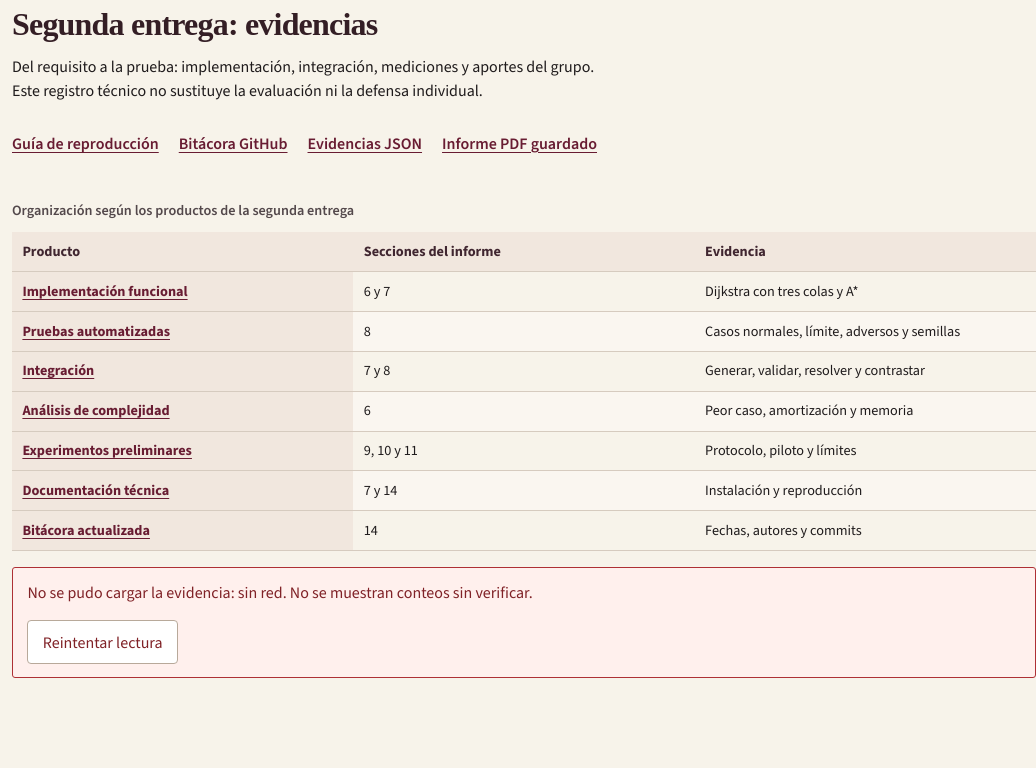
Test: permite reintentar una carga fallida y no anuncia éxito
Expected: the message shows "sin red", left=238, top=582, right=283, bottom=603
Click the button "Reintentar lectura".
click(103, 642)  # box left=27, top=620, right=178, bottom=664
(page scrolled)
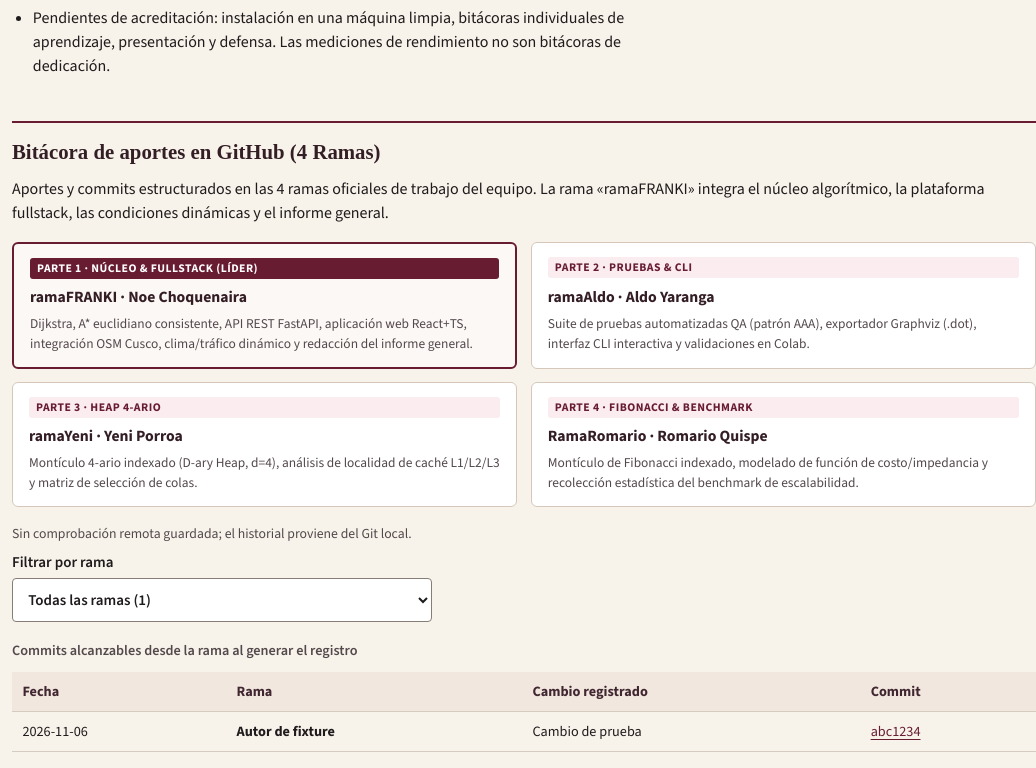
Expected: the text "Cambio de prueba" is shown, left=522, top=712, right=860, bottom=751
